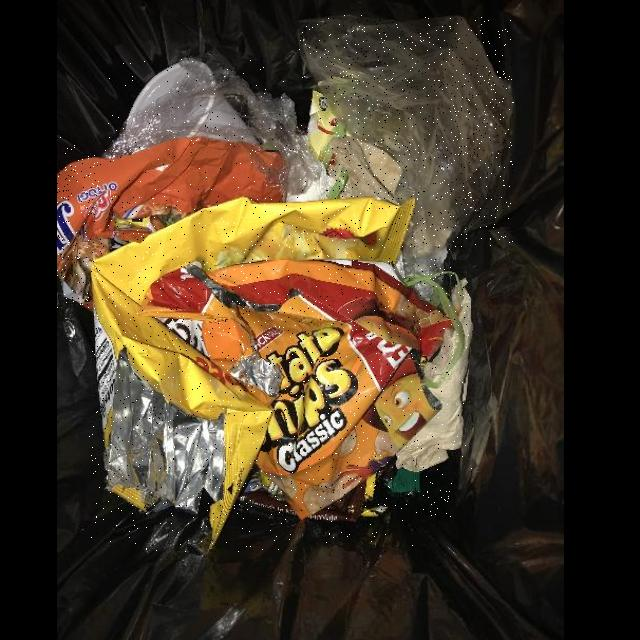paper: (396, 288, 473, 473)
plastic: (300, 15, 514, 251), (102, 59, 326, 196)
wrapper: (90, 197, 415, 552), (140, 260, 452, 518), (57, 137, 284, 312)
